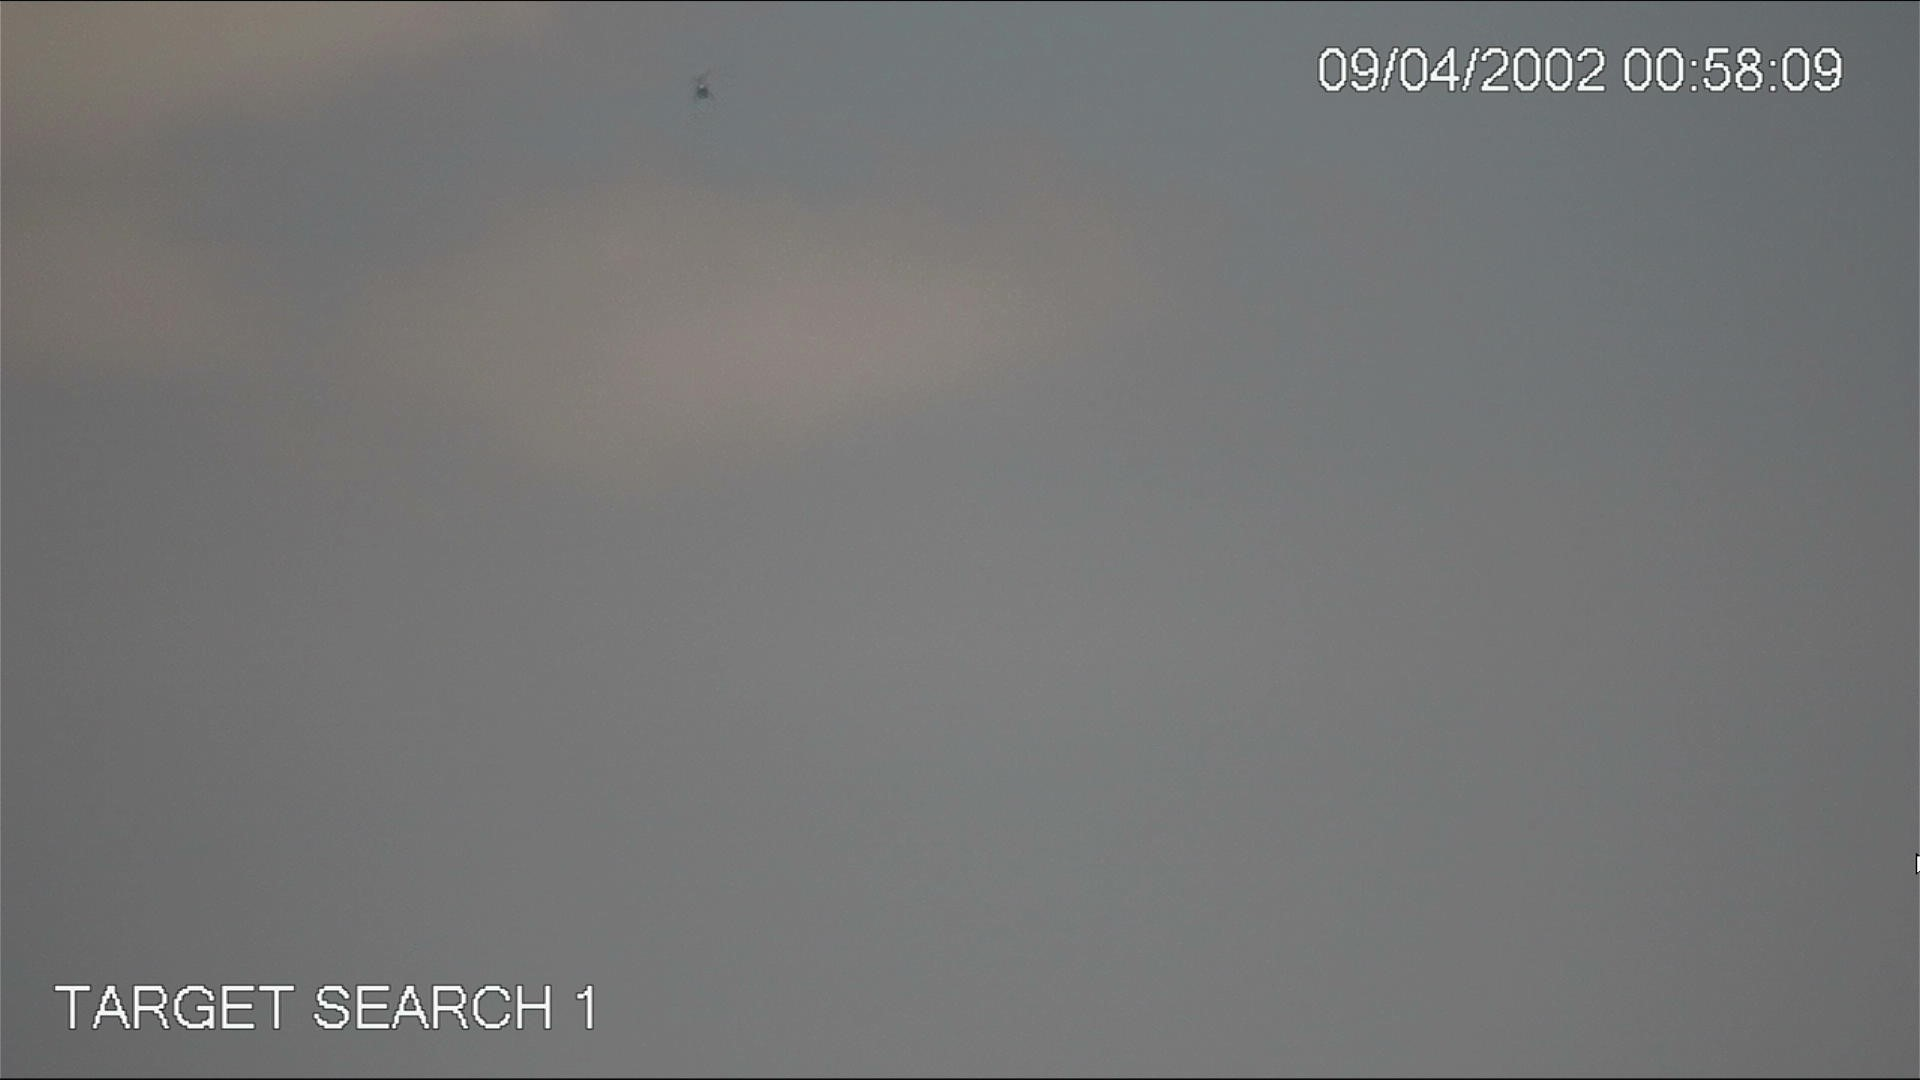SU_30: (694, 73, 711, 102)
